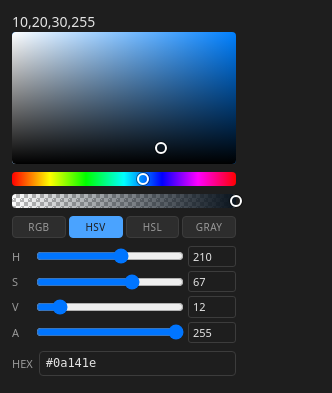
it: ColorPicker › reverts an invalid HEX to the current colour
Replace the text in the field named "Foreground colour hex value" with "nonsense". click: [137, 364]
box: [39,351,236,376]
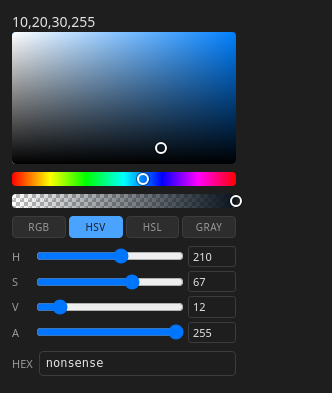
Leave the field named "Foreground colour hex value", box [39,351,236,376]
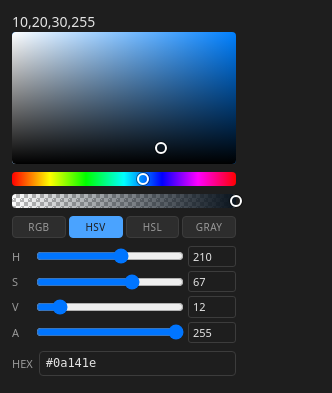
Expected: the field named "Foreground colour hex value" holds "#0a141e", [39,351,236,376]
